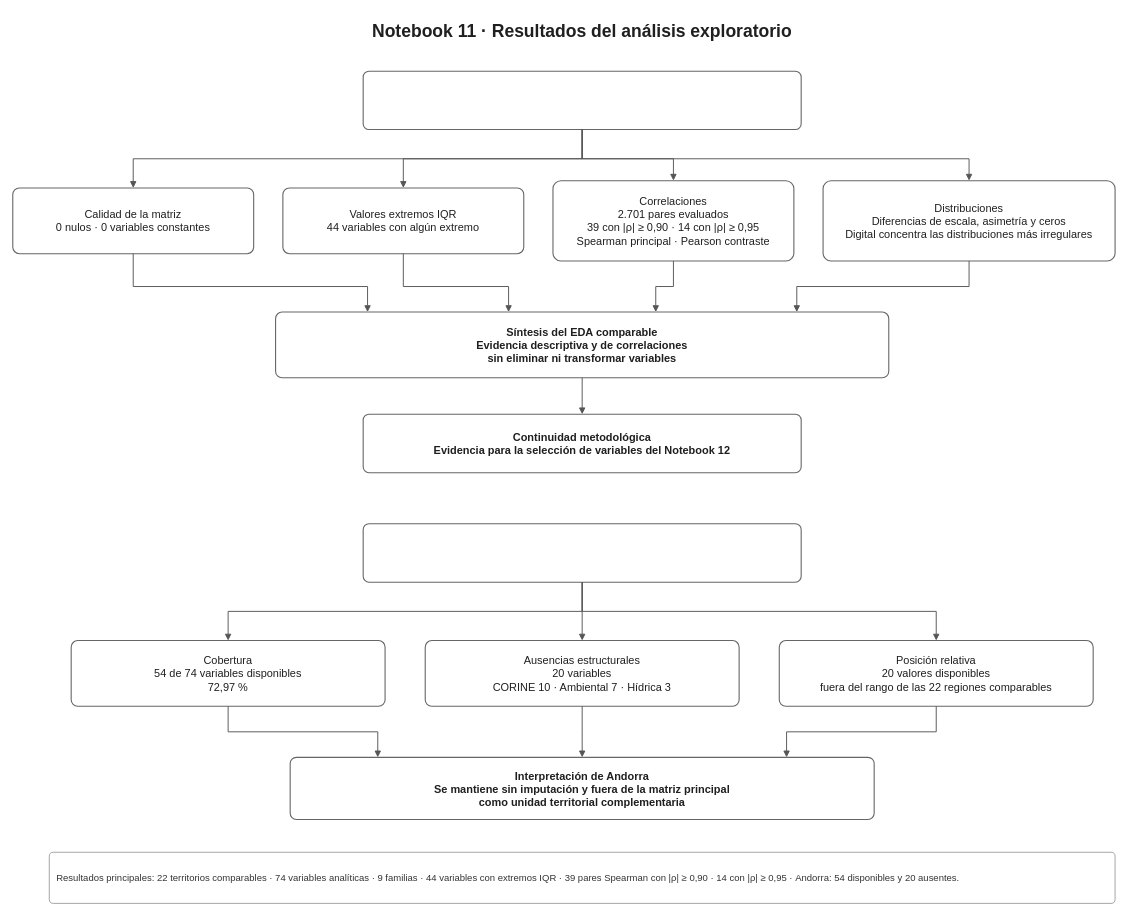
Image size: 1129x916. Some labels were removed from this diagram. Here are the shapes that lost their labels. From the top down, the centre of each, then its label:
At pixel 581 100: "Matriz comparable 22 territorios × 74 variables".
At pixel 581 552: "Andorra unidad complementaria".
